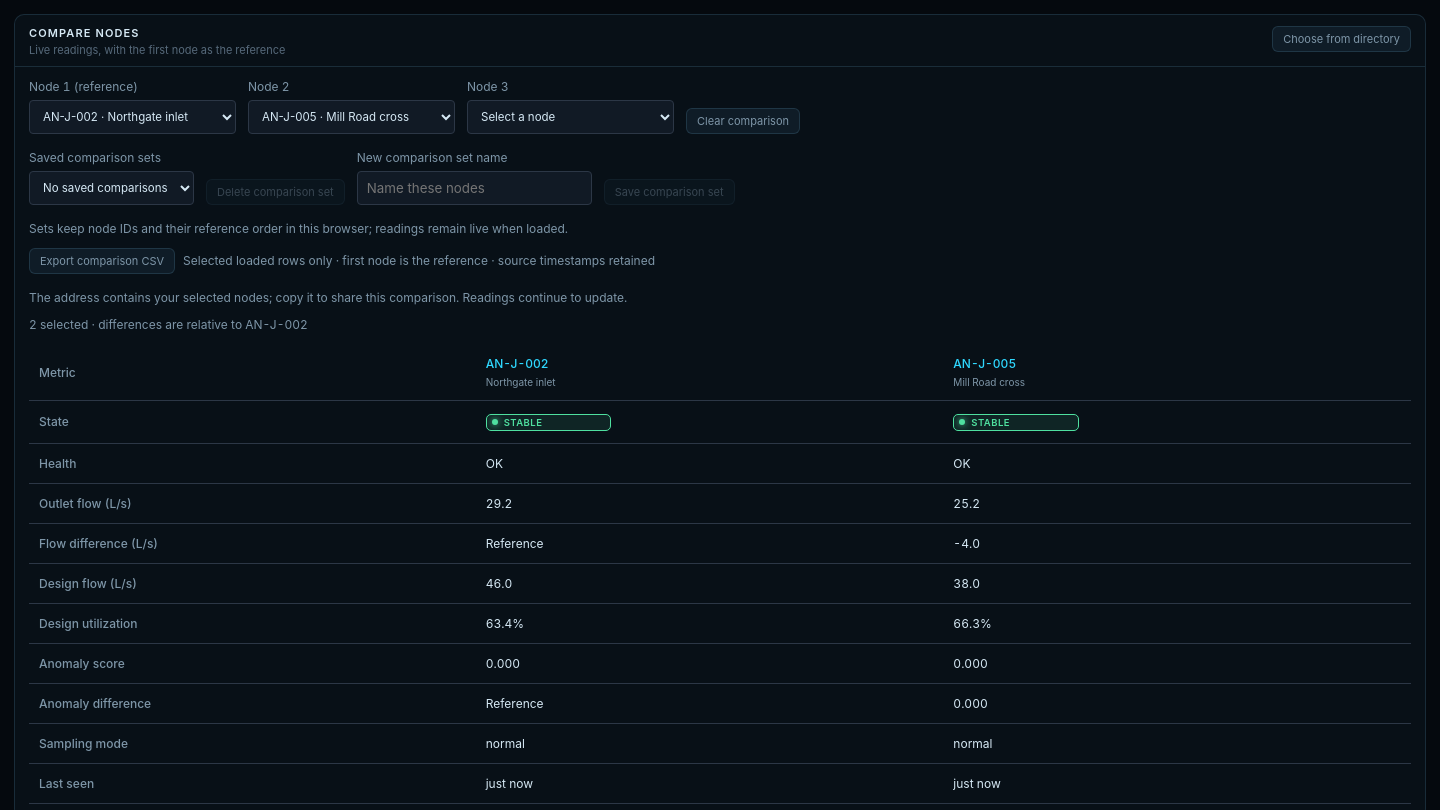
Test: node comparison › loads shareable live selections and clears them through the controls
The image size is (1440, 810).
Check: the table is shown, box [29,317,1411,804]
Check: the link "AN-J-002" is shown, box [486,356,548,371]
Step 1. Click the button "Clear comparison" → (743, 121), box [686,108,800,134]
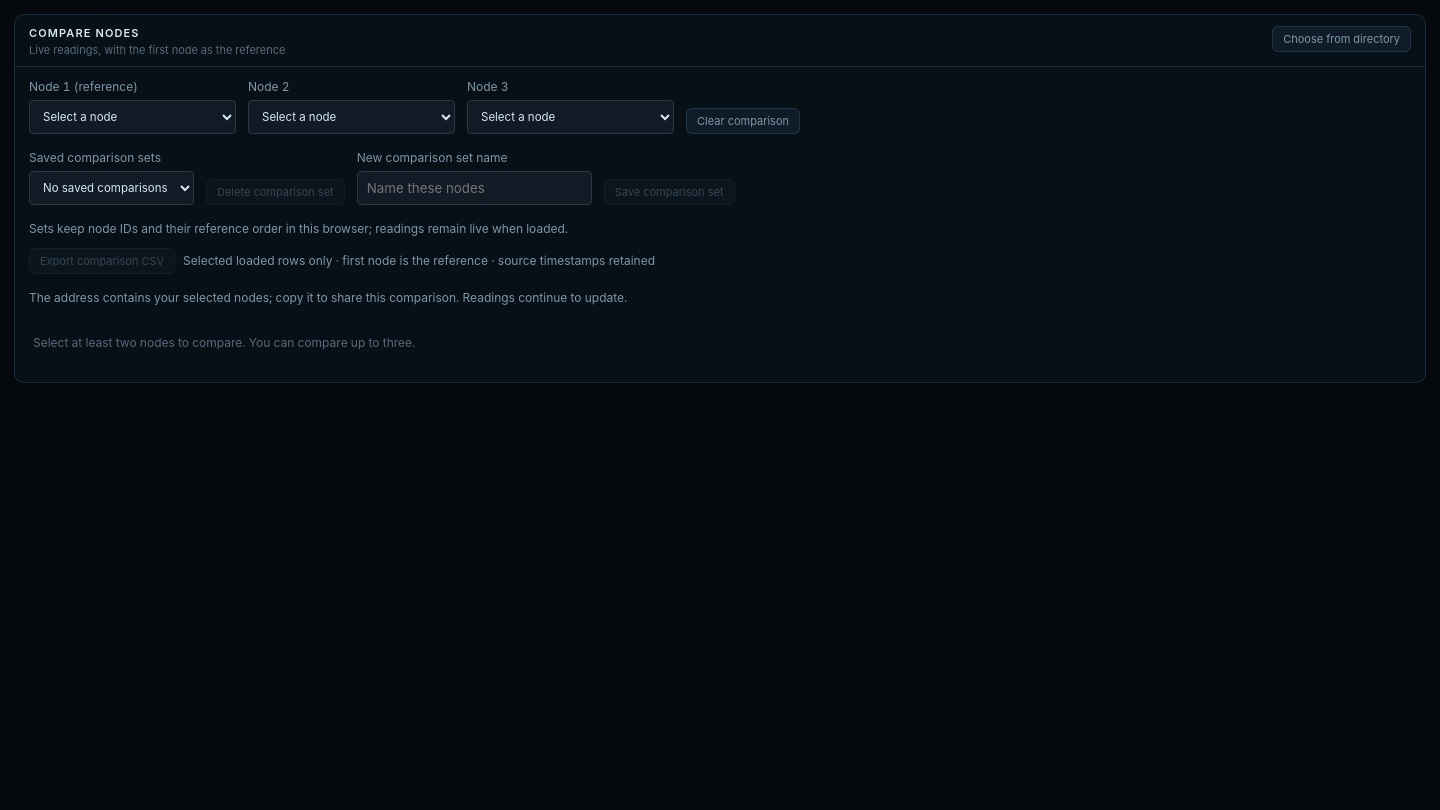
Check: the table is gone
Check: the text "Select at least two nodes" is shown, box [33,335,415,350]
